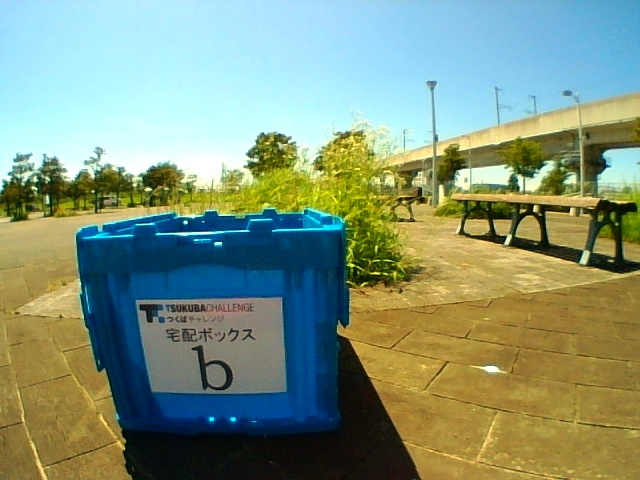blue_box: (125, 219, 333, 427)
tag_b: (150, 299, 284, 392)
